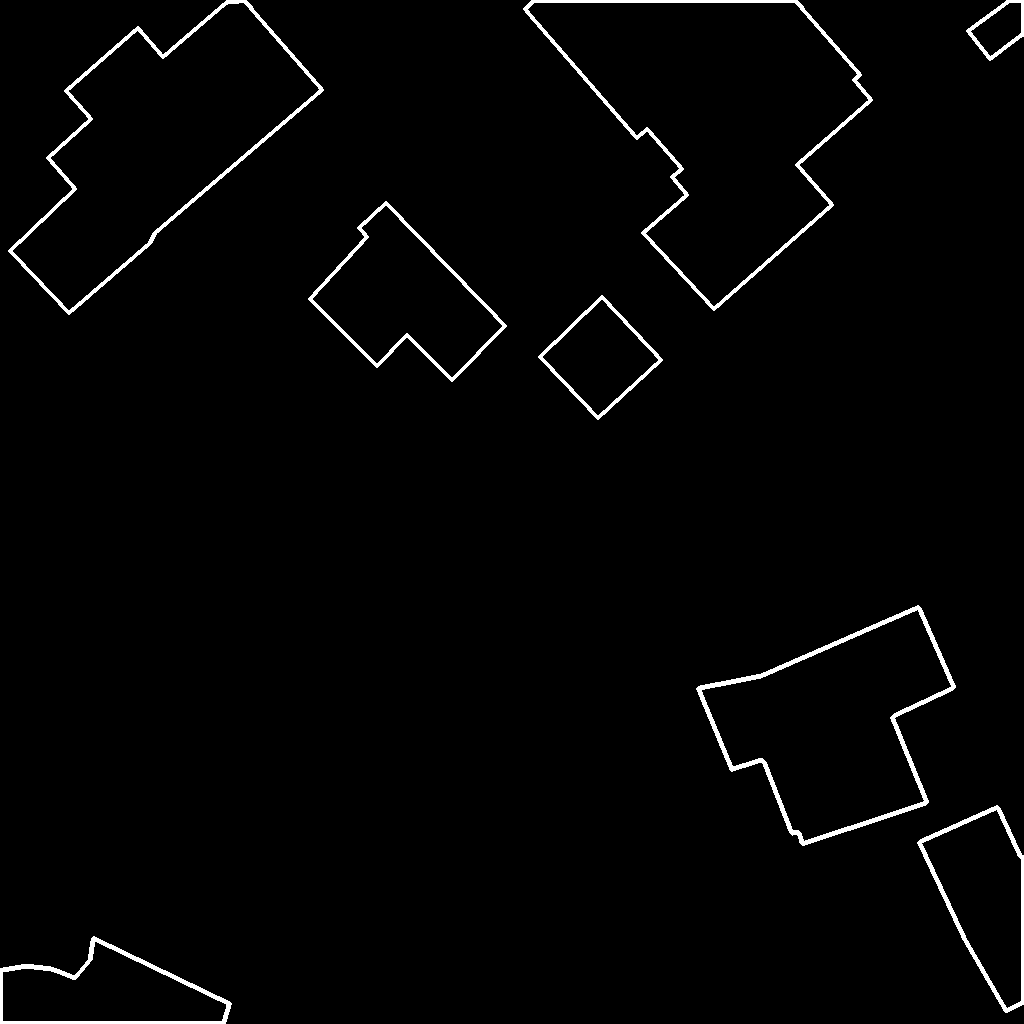building: (525, 0, 872, 310), (10, 0, 323, 314), (698, 607, 955, 845), (310, 203, 506, 381), (919, 807, 1024, 1012), (0, 938, 231, 1024), (540, 297, 662, 419), (968, 0, 1024, 60)
